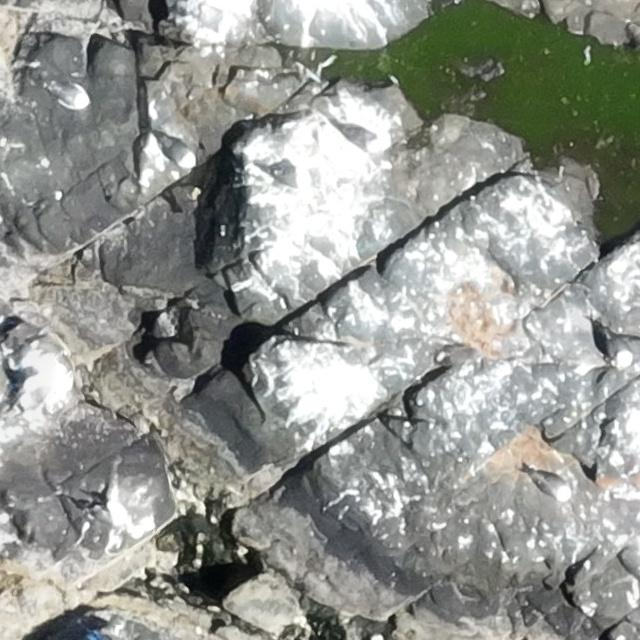umineko: (530, 468, 572, 502), (602, 329, 634, 367), (139, 134, 161, 186), (54, 81, 88, 108), (165, 142, 192, 168), (341, 126, 375, 146), (272, 165, 300, 183)
